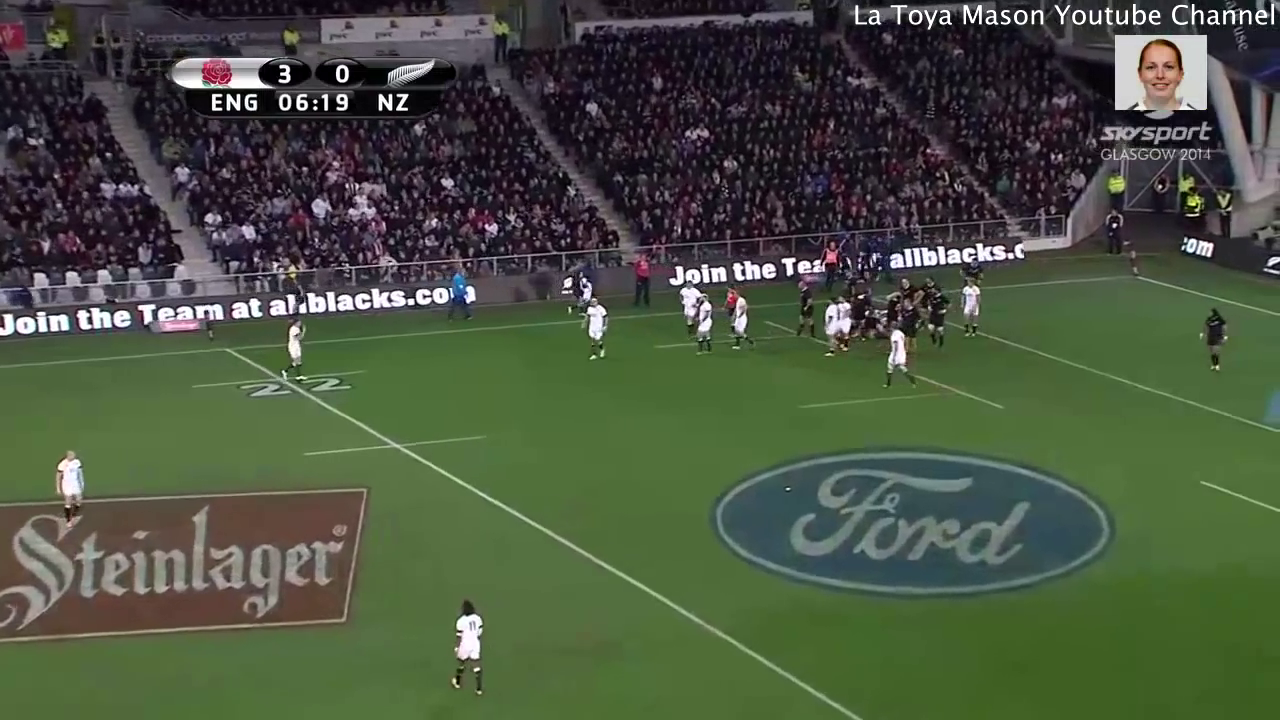player: (444, 587, 489, 708), (875, 318, 922, 395), (51, 447, 89, 536), (576, 295, 620, 366), (1195, 300, 1229, 379), (277, 311, 310, 391), (952, 274, 989, 342), (786, 275, 820, 342), (729, 289, 760, 354), (924, 286, 951, 350), (691, 296, 718, 358), (818, 296, 844, 360), (843, 283, 872, 337), (898, 295, 924, 355), (717, 282, 740, 329), (675, 277, 695, 330), (836, 291, 853, 353), (894, 276, 923, 304), (881, 287, 900, 328), (917, 269, 941, 301)
